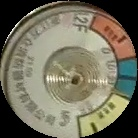green: (113, 55, 138, 101)
needle: (103, 86, 131, 100)
red: (91, 14, 137, 61)
yellow: (78, 92, 131, 137)
